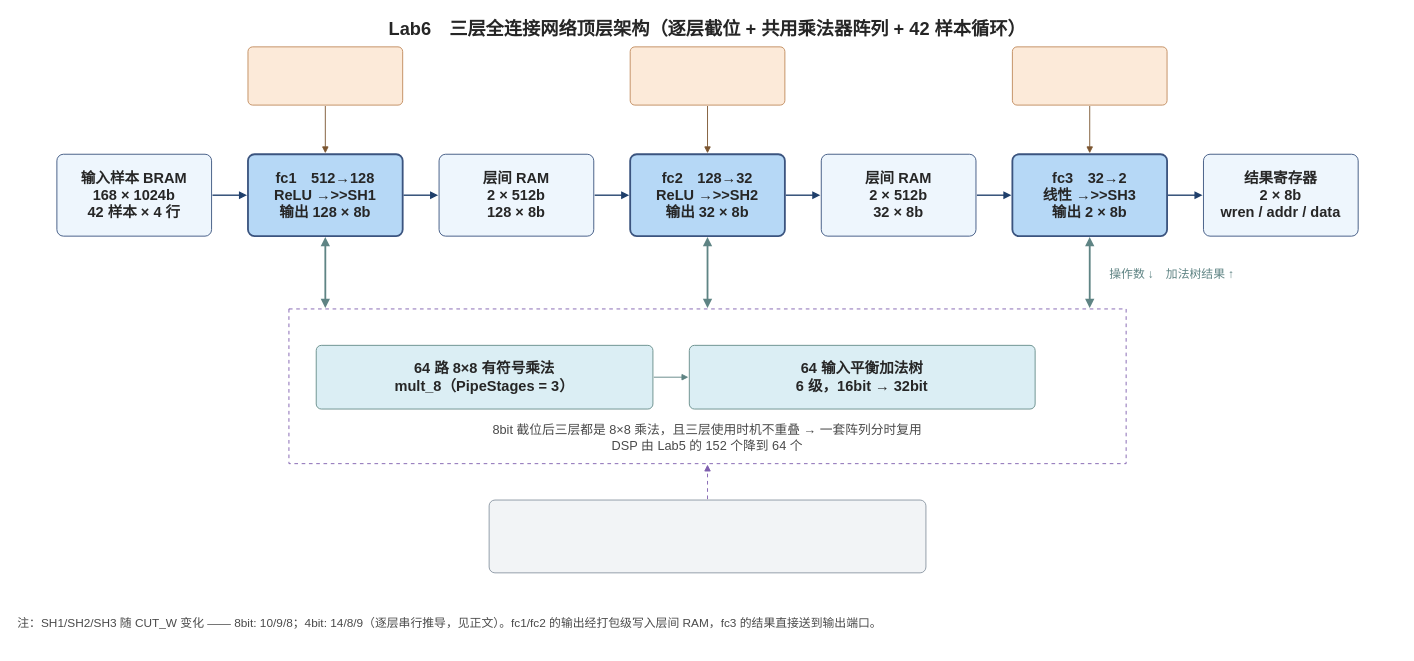
The diagram is 1414 pixels wide and 661 high, and some of its shapes have lost their labels. Here are the shapes that lost their labels. From the top down, the box of each, then its label:
(247, 46, 403, 105): fc1 权重 BRAM 1024b × 512 偏置 BRAM 128
(629, 46, 785, 105): fc2 权重 BRAM 64 × 512b 偏置 BRAM 32
(1011, 46, 1167, 105): fc3 权重 BRAM 2 × 512b 偏置 = 常数
(488, 499, 926, 573): 顶层状态机（FSM） IDLE → FC1 → FC2 → FC3 → NEXT → DONE 一个 start 脉冲跑完 42 个样本
